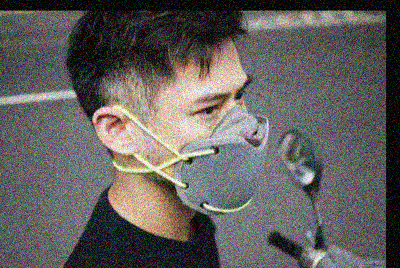with_mask: (138, 74, 271, 217)
